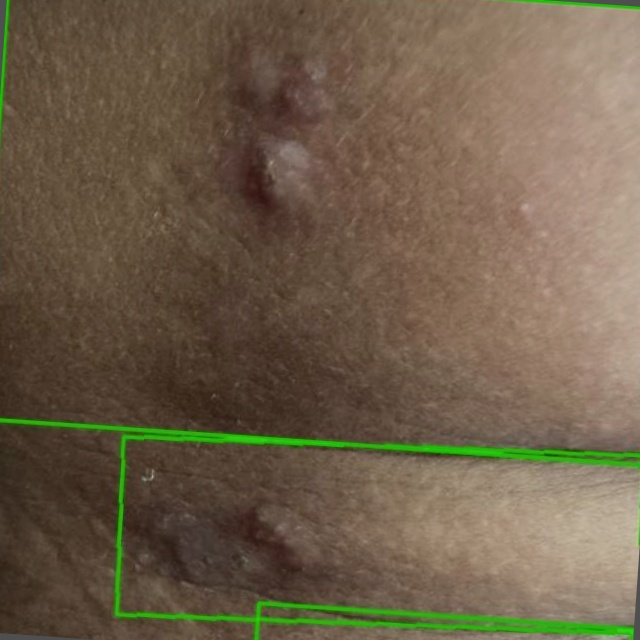Scabies: (0, 0, 639, 464), (117, 437, 639, 633)
